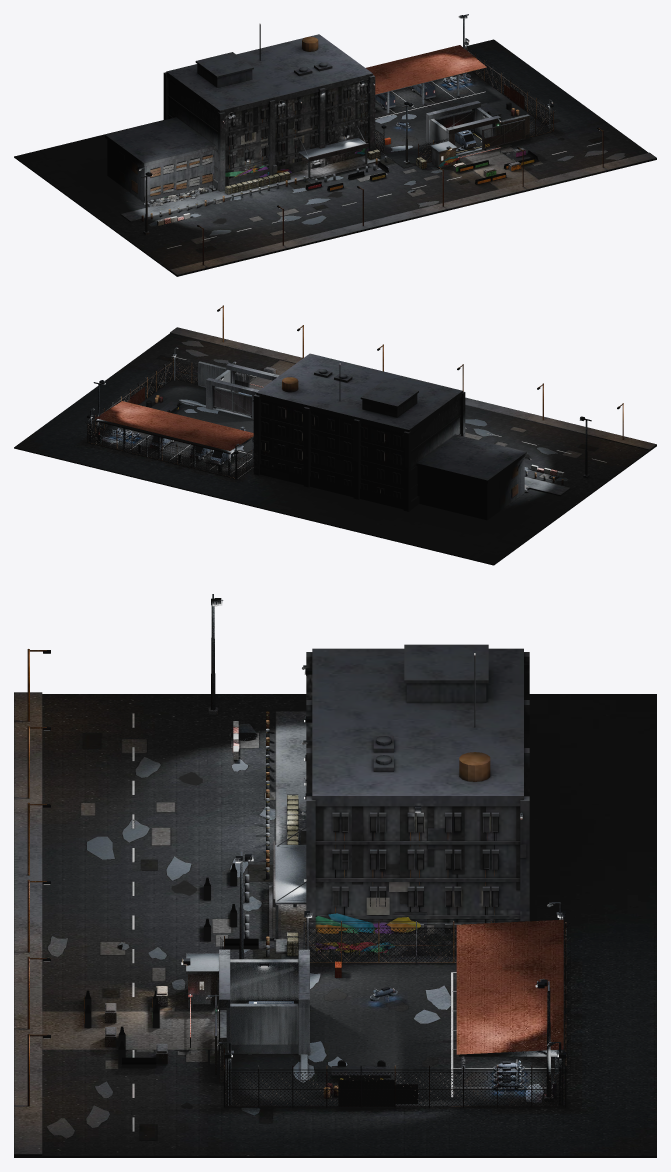
File: enforcement_low.glb
3 views of the same model, one above another, from view 1: azimuth 30°, elevation 25°; view 2: azimuth 150°, elevation 25°; view 3: azimuth 270°, elevation 25° (orthographic). The views are drawn at different scales.
Visible parts, largest first — view 1: site_ground, walls_ext, props_motorpool, props_gate, props_security, props_lights, props_counter, props_vehicles; view 2: site_ground, walls_ext, props_motorpool, props_gate, props_lights, props_vehicles, props_security; view 3: site_ground, walls_ext, props_motorpool, props_gate, props_security, props_lights, props_counter, props_vehicles.
Boxes of the visible parts, x1,y1,x2,y2 form: site_ground: (14, 39, 656, 276); walls_ext: (105, 23, 375, 202); props_motorpool: (366, 45, 555, 162); props_gate: (426, 101, 529, 167); props_security: (139, 38, 552, 225); props_lights: (141, 14, 603, 264); props_counter: (298, 124, 368, 179); props_vehicles: (375, 73, 476, 148); site_ground: (14, 327, 656, 565); walls_ext: (253, 353, 526, 520); props_motorpool: (85, 358, 253, 478); props_gate: (180, 361, 279, 419); props_lights: (87, 305, 623, 478); props_vehicles: (111, 392, 251, 464); props_security: (90, 347, 564, 492); site_ground: (14, 692, 656, 1157); walls_ext: (300, 644, 529, 955); props_motorpool: (220, 919, 570, 1107); props_gate: (186, 949, 309, 1083); props_security: (84, 665, 561, 1105); props_lights: (27, 594, 565, 1106); props_counter: (269, 827, 306, 940); props_vehicles: (246, 987, 524, 1094).
Size of the model in its own units: 96 by 22.79 by 56.5.
8 materials, 8 textured.
